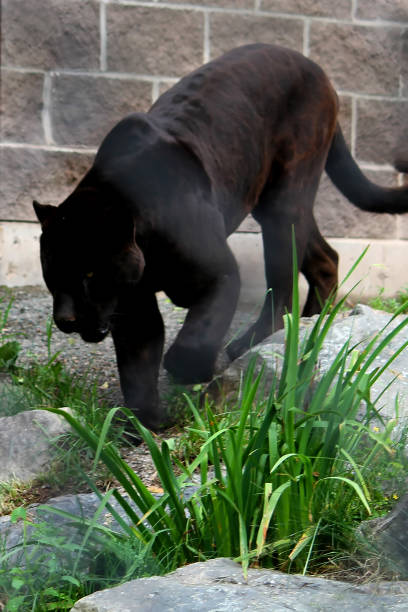panther: (25, 199, 153, 351)
